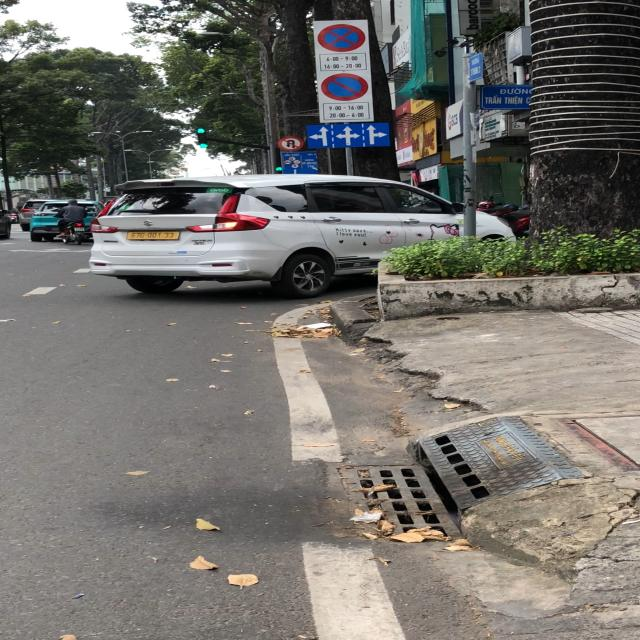Bien bao cam do xe: (321, 72, 371, 102)
Bien bao cam dung xe va do xe: (314, 23, 369, 53)
Bien bao cam quay dau xe: (277, 134, 307, 152)
